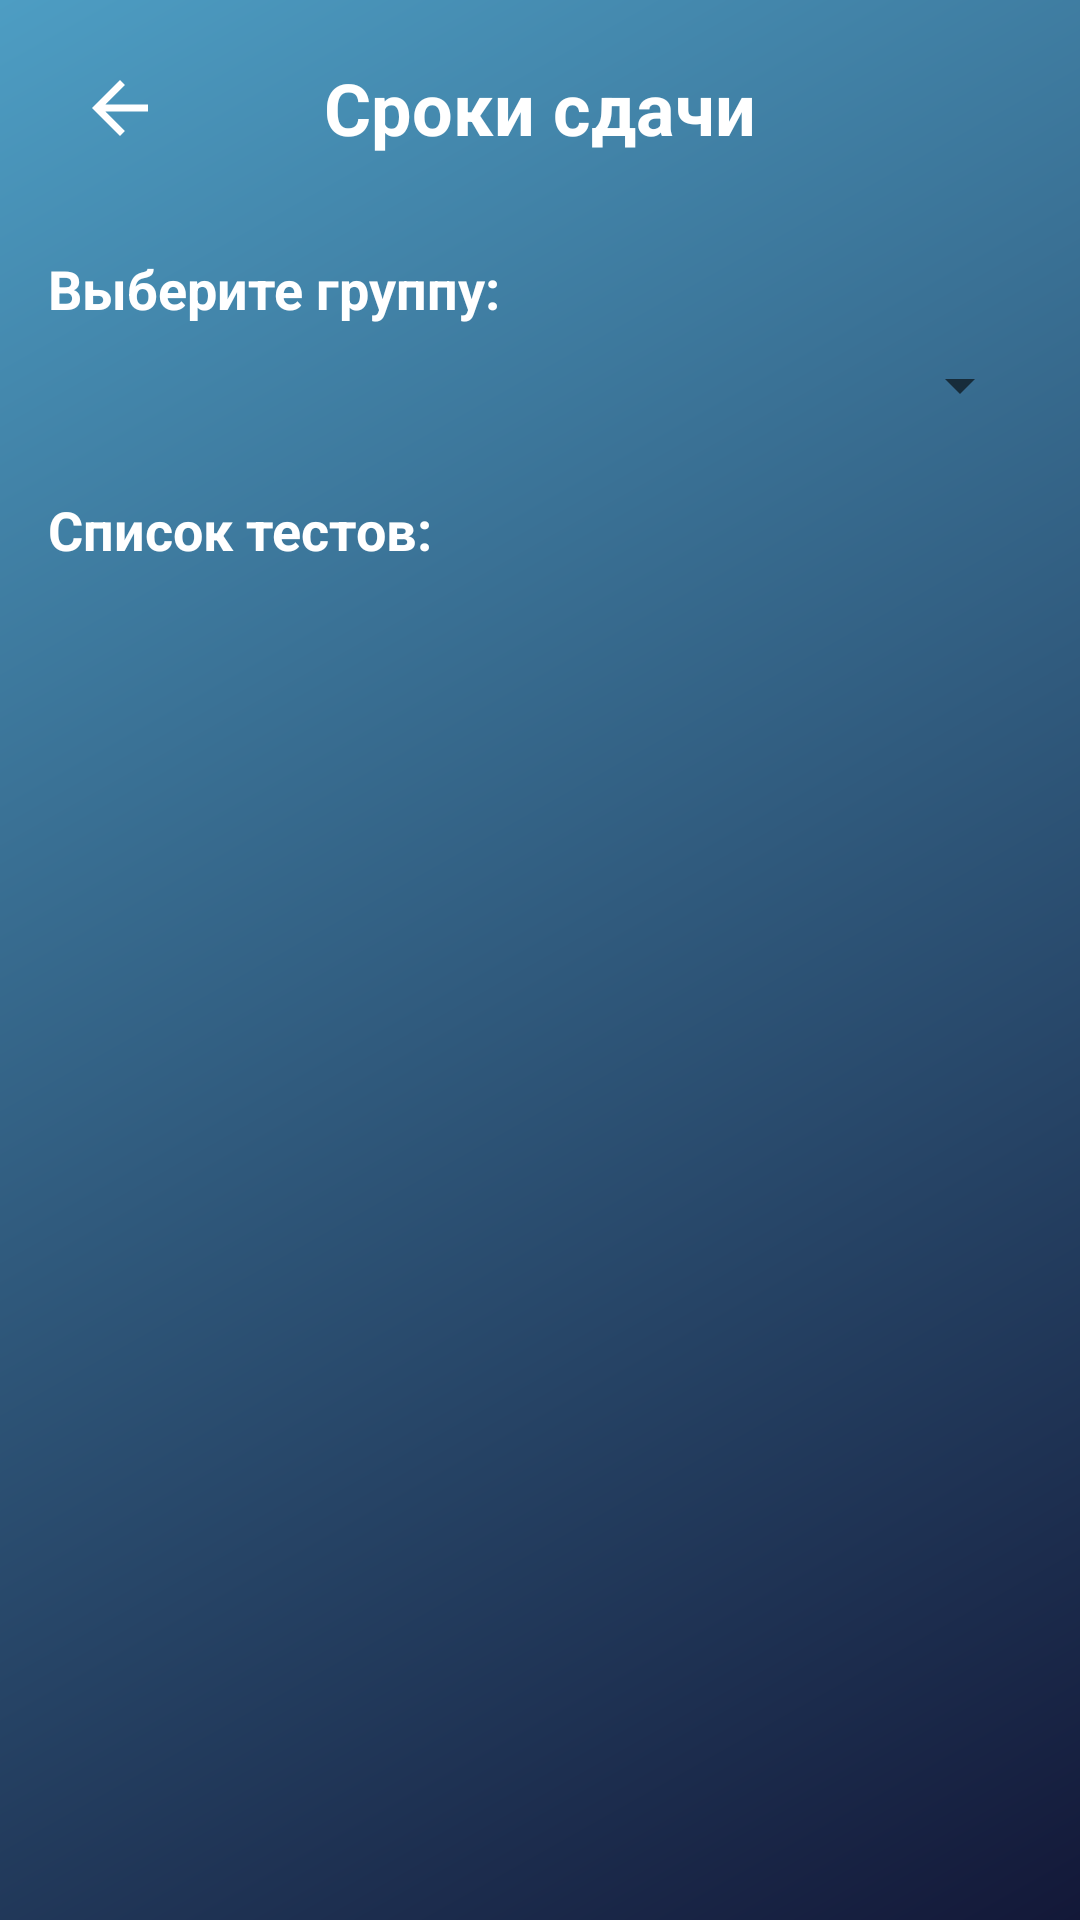

Screen size 1080*1920. Icon name, then its box in pixels as detection(x1, y1, x2, y2):
arrow back: detection(92, 80, 148, 136)
